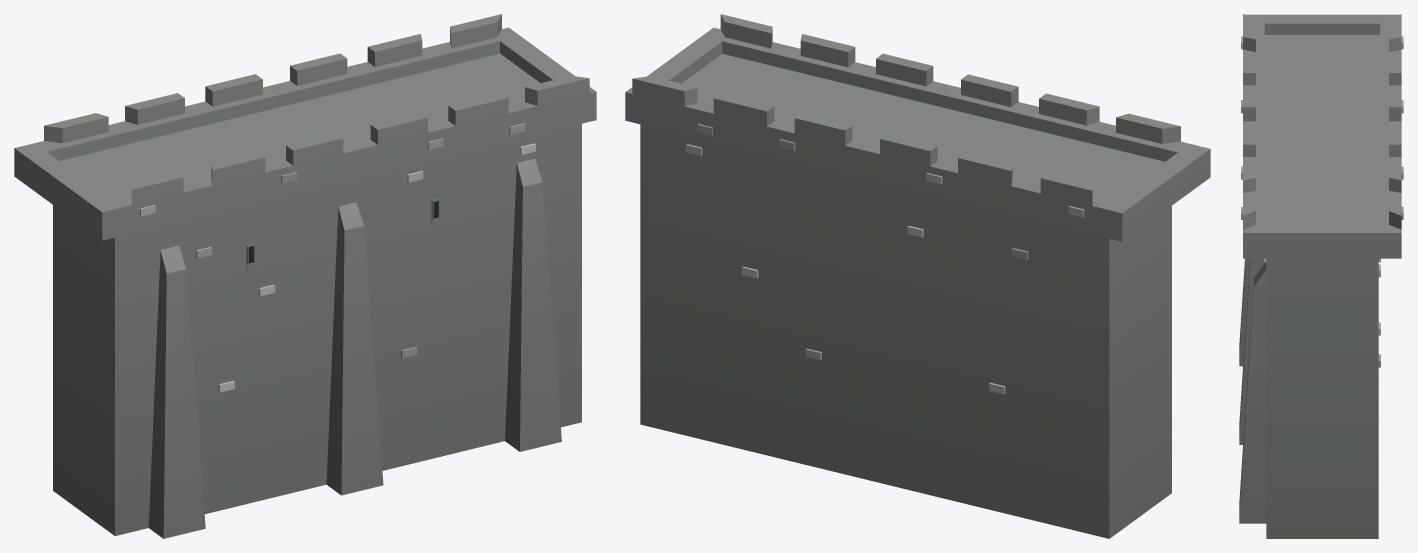
The picture shows the model from 3 angles, left to right: view 1: azimuth 30°, elevation 25°; view 2: azimuth 150°, elevation 25°; view 3: azimuth 270°, elevation 25°; orthographic projection. The views are drawn at different scales.
Visible parts, largest first — view 1: Wall_0; view 2: Wall_0; view 3: Wall_0.
Boxes of the visible parts, box(x1,y1,x2,y2) form: Wall_0: box(14, 14, 596, 538); Wall_0: box(625, 14, 1210, 538); Wall_0: box(1239, 14, 1403, 538).
Size of the model in its own units: 33.78 by 23.16 by 10.77.
1 material, 1 textured.
